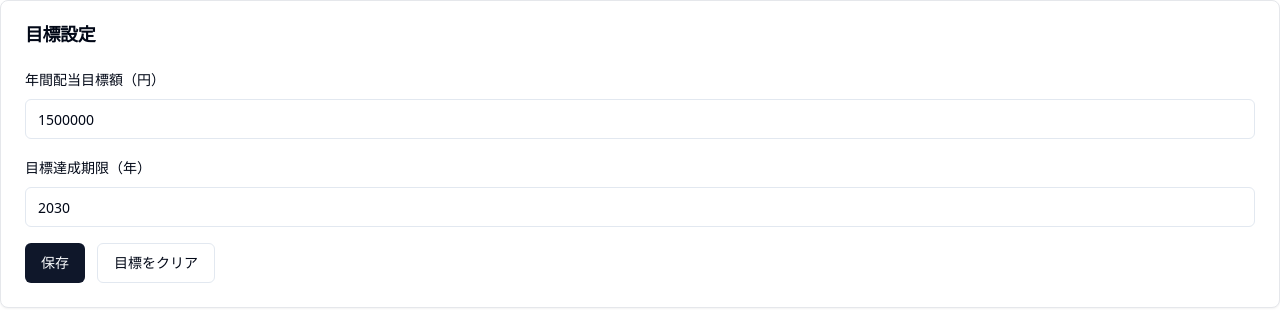
Test case: GoalForm › タスク3.4: クリア機能 › クリア成功時にフォームフィールドを空にリセットする
Click the button "目標をクリア": click(156, 263) [97,243,215,283]
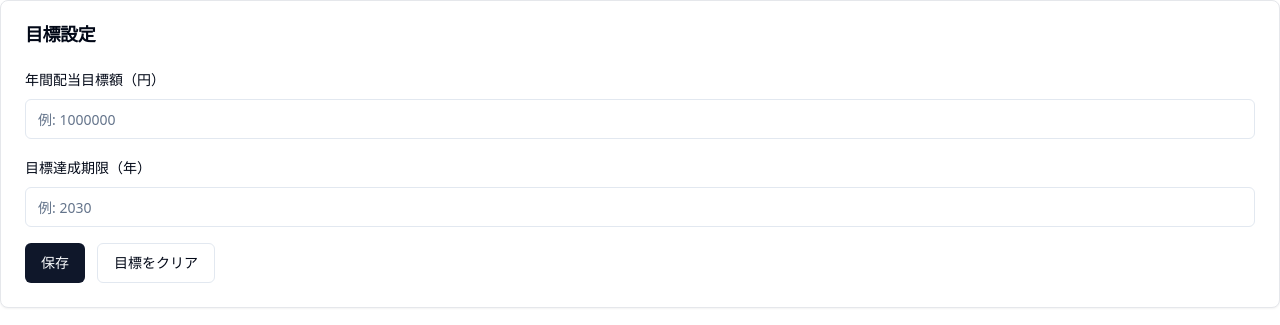
expect the number field labelled "年間配当目標額（円）" is not empty: met, box [25,99,1255,139]
expect the number field labelled "目標達成期限（年）" is not empty: met, box [25,187,1255,227]
